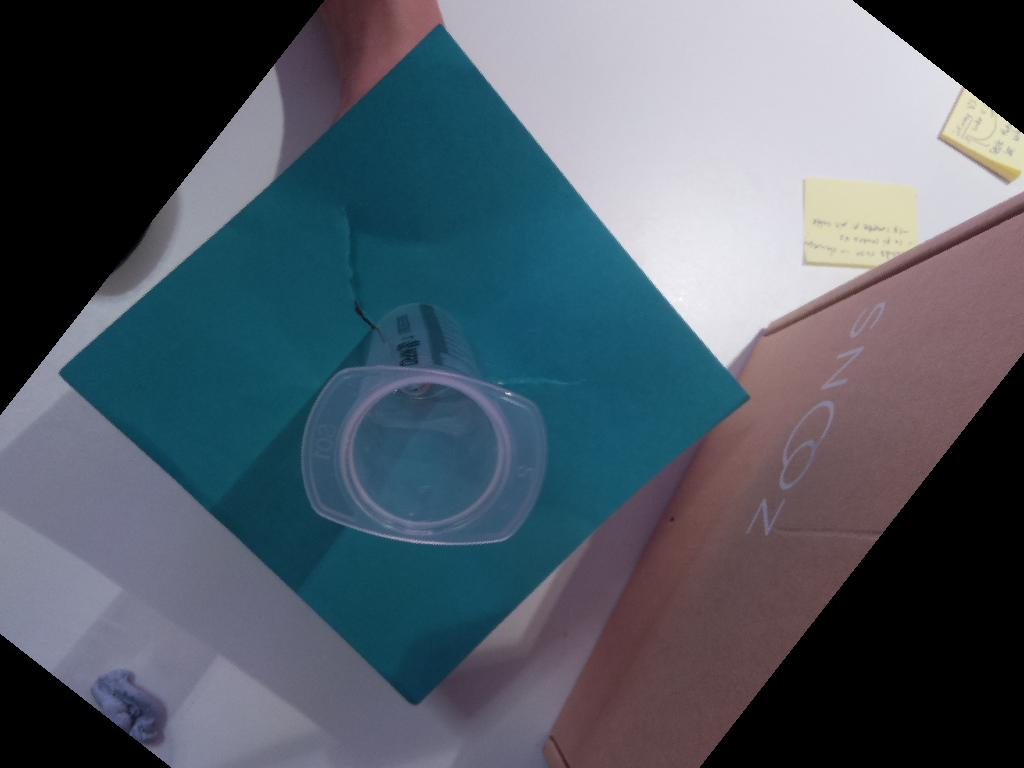clean: (298, 363, 550, 547)
